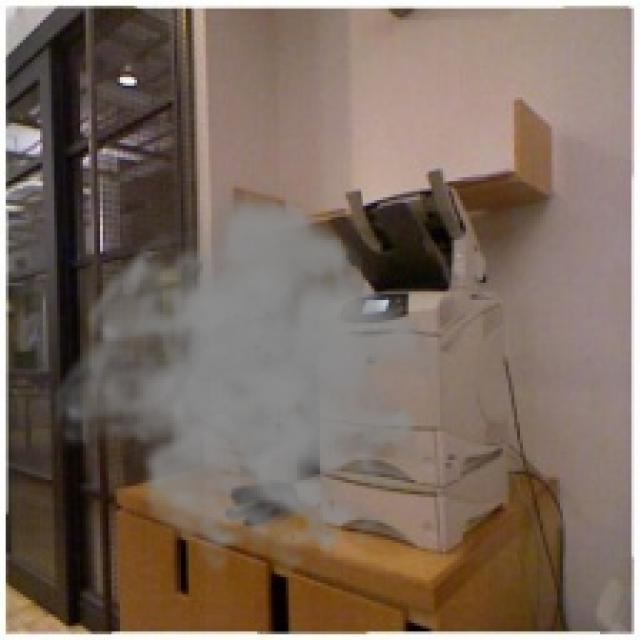smoke: (46, 186, 457, 574)
